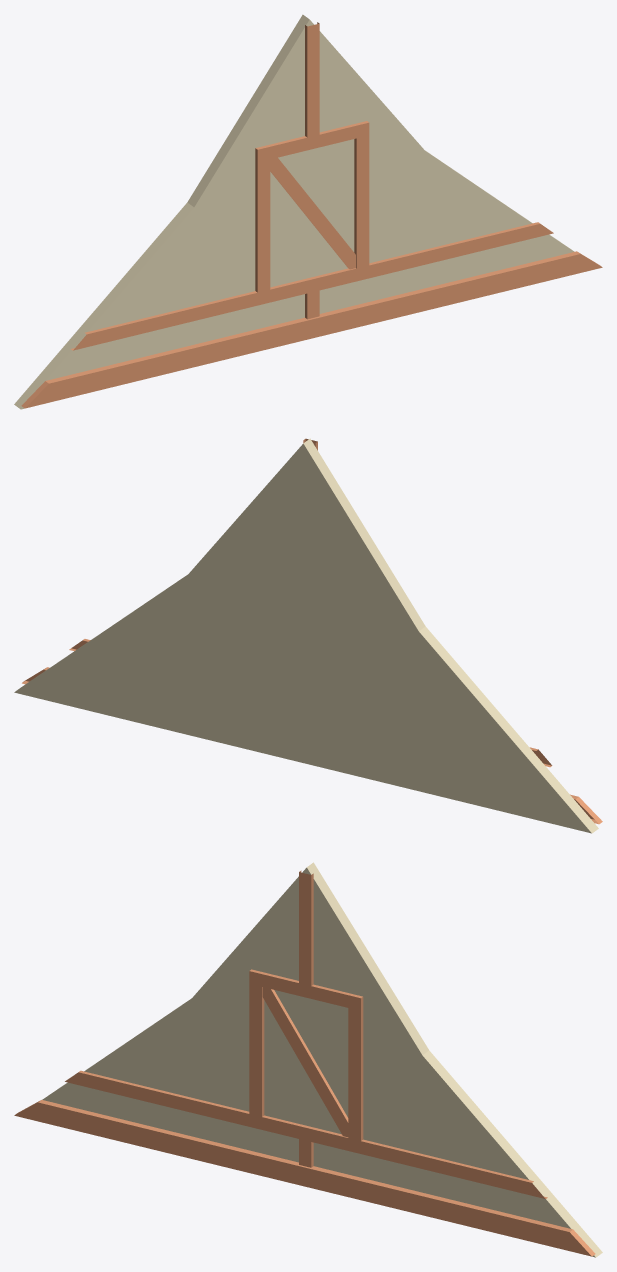
Rendered from Gable_small1.fbx.
The picture shows the model from 3 angles, top to bottom: view 1: azimuth 30°, elevation 25°; view 2: azimuth 150°, elevation 25°; view 3: azimuth 330°, elevation 25°; orthographic projection.
Parts seen in each view (by area): view 1: Gable_small1_wall_low, Gable_small1_woodplank_low; view 2: Gable_small1_wall_low, Gable_small1_woodplank_low; view 3: Gable_small1_wall_low, Gable_small1_woodplank_low.
Part boxes in pixels (bbox=[...]): Gable_small1_wall_low: bbox=[14, 14, 574, 409]; Gable_small1_woodplank_low: bbox=[21, 22, 602, 408]; Gable_small1_wall_low: bbox=[14, 438, 598, 833]; Gable_small1_woodplank_low: bbox=[22, 438, 602, 824]; Gable_small1_wall_low: bbox=[42, 862, 602, 1257]; Gable_small1_woodplank_low: bbox=[14, 870, 595, 1256].
Bounding box in the file's own units: 949 × 502 × 30.97.
